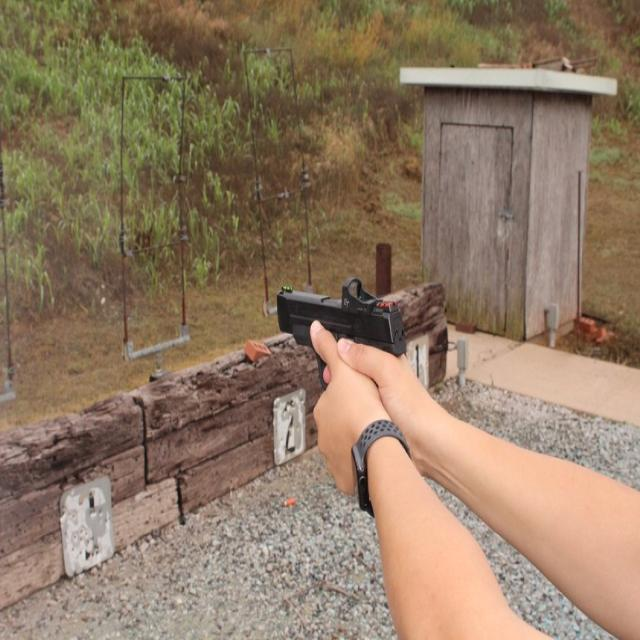HandGun: (277, 277, 409, 390)
